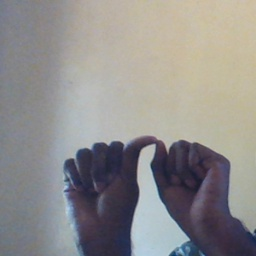A: (58, 134, 233, 233)
